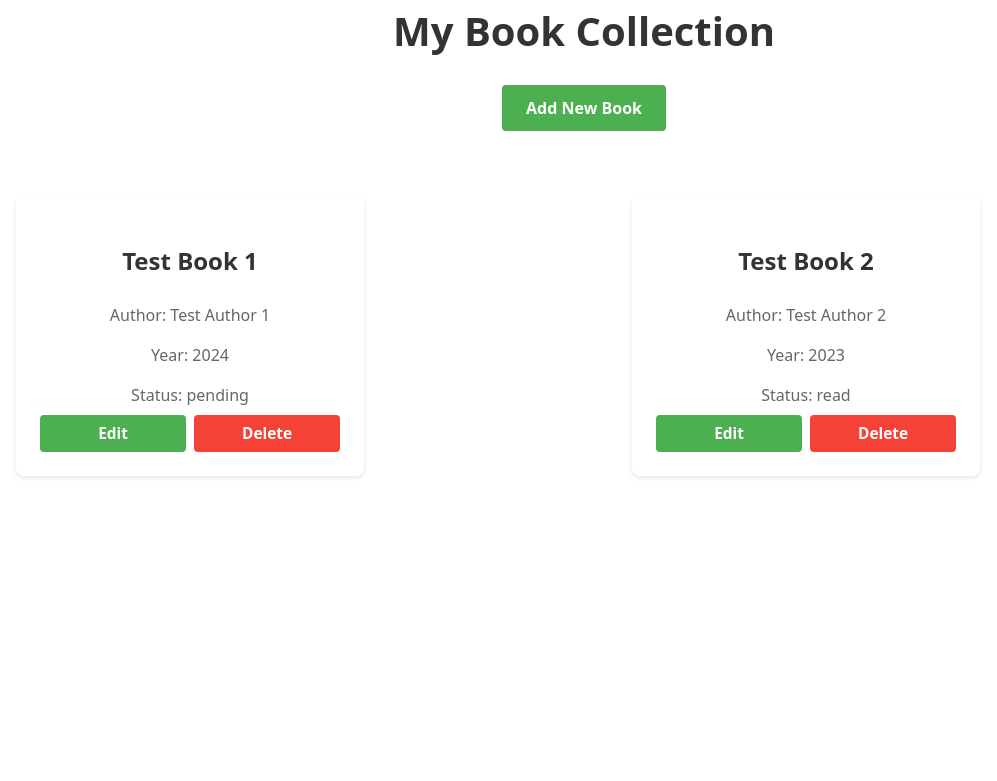
Test: BookList Component › shows form when add book button is clicked
Click the button "Add New Book" at (584, 108), box [502,85,666,131]
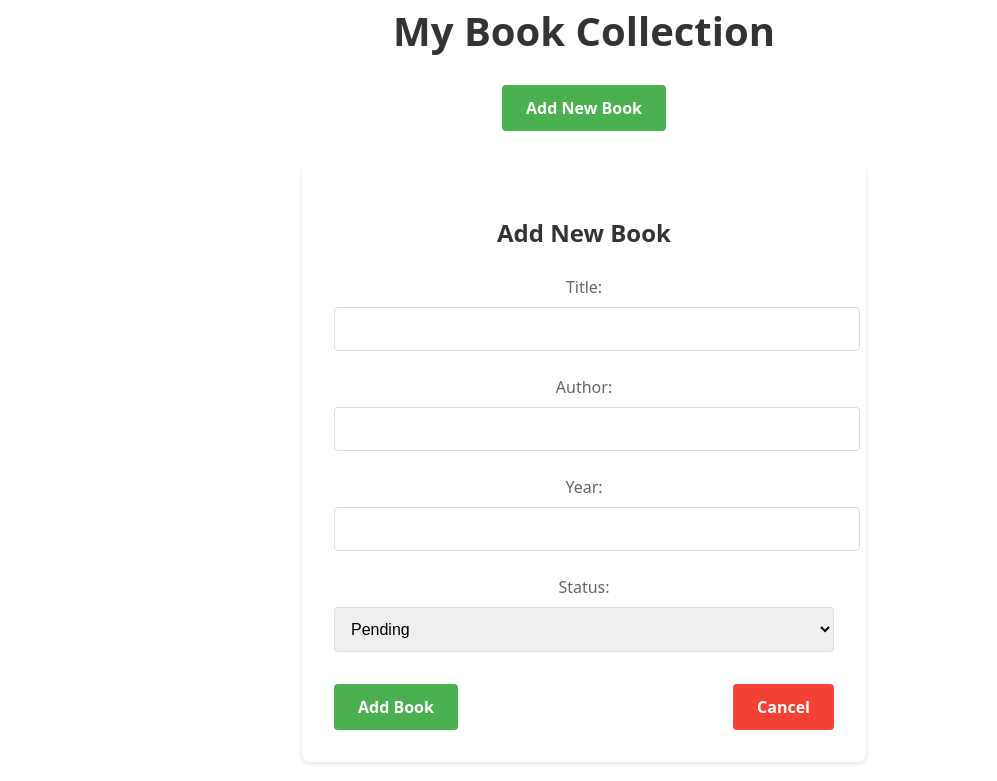
Expected: the field labelled "Title:" is shown, [334,307,860,351]
Expected: the field labelled "Author:" is shown, [334,407,860,451]
Expected: the field labelled "Year:" is shown, [334,507,860,551]
